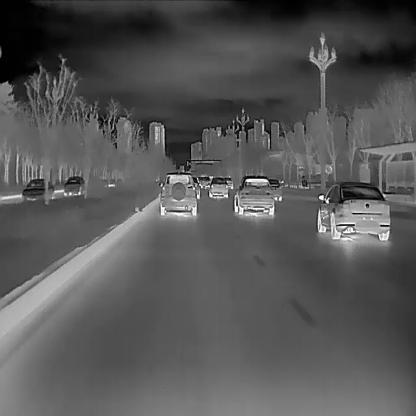car: (317, 181, 390, 240), (159, 171, 197, 215), (234, 175, 274, 215), (21, 177, 54, 198), (63, 175, 84, 195), (208, 176, 228, 197), (268, 177, 281, 200), (192, 175, 200, 198), (200, 175, 210, 187), (224, 174, 233, 187)
